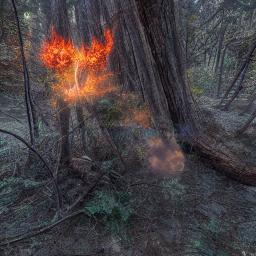Small fire: (38, 28, 119, 109)
